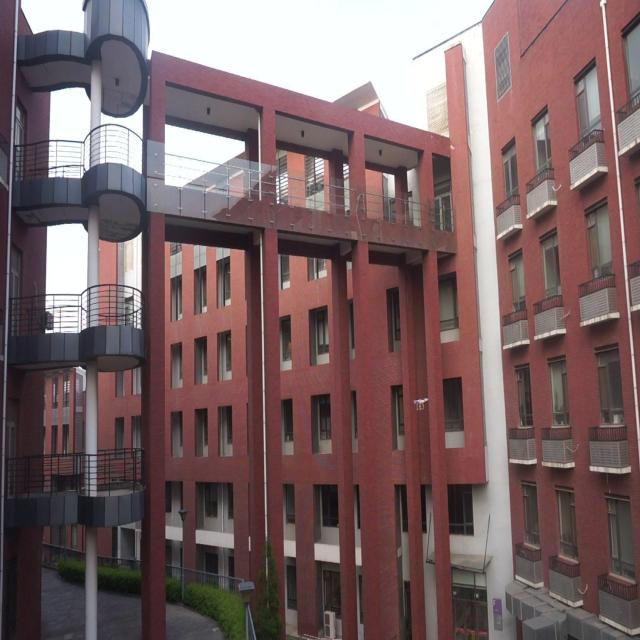drone: (412, 393, 430, 414)
